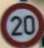20 km speed: (1, 1, 43, 48)
